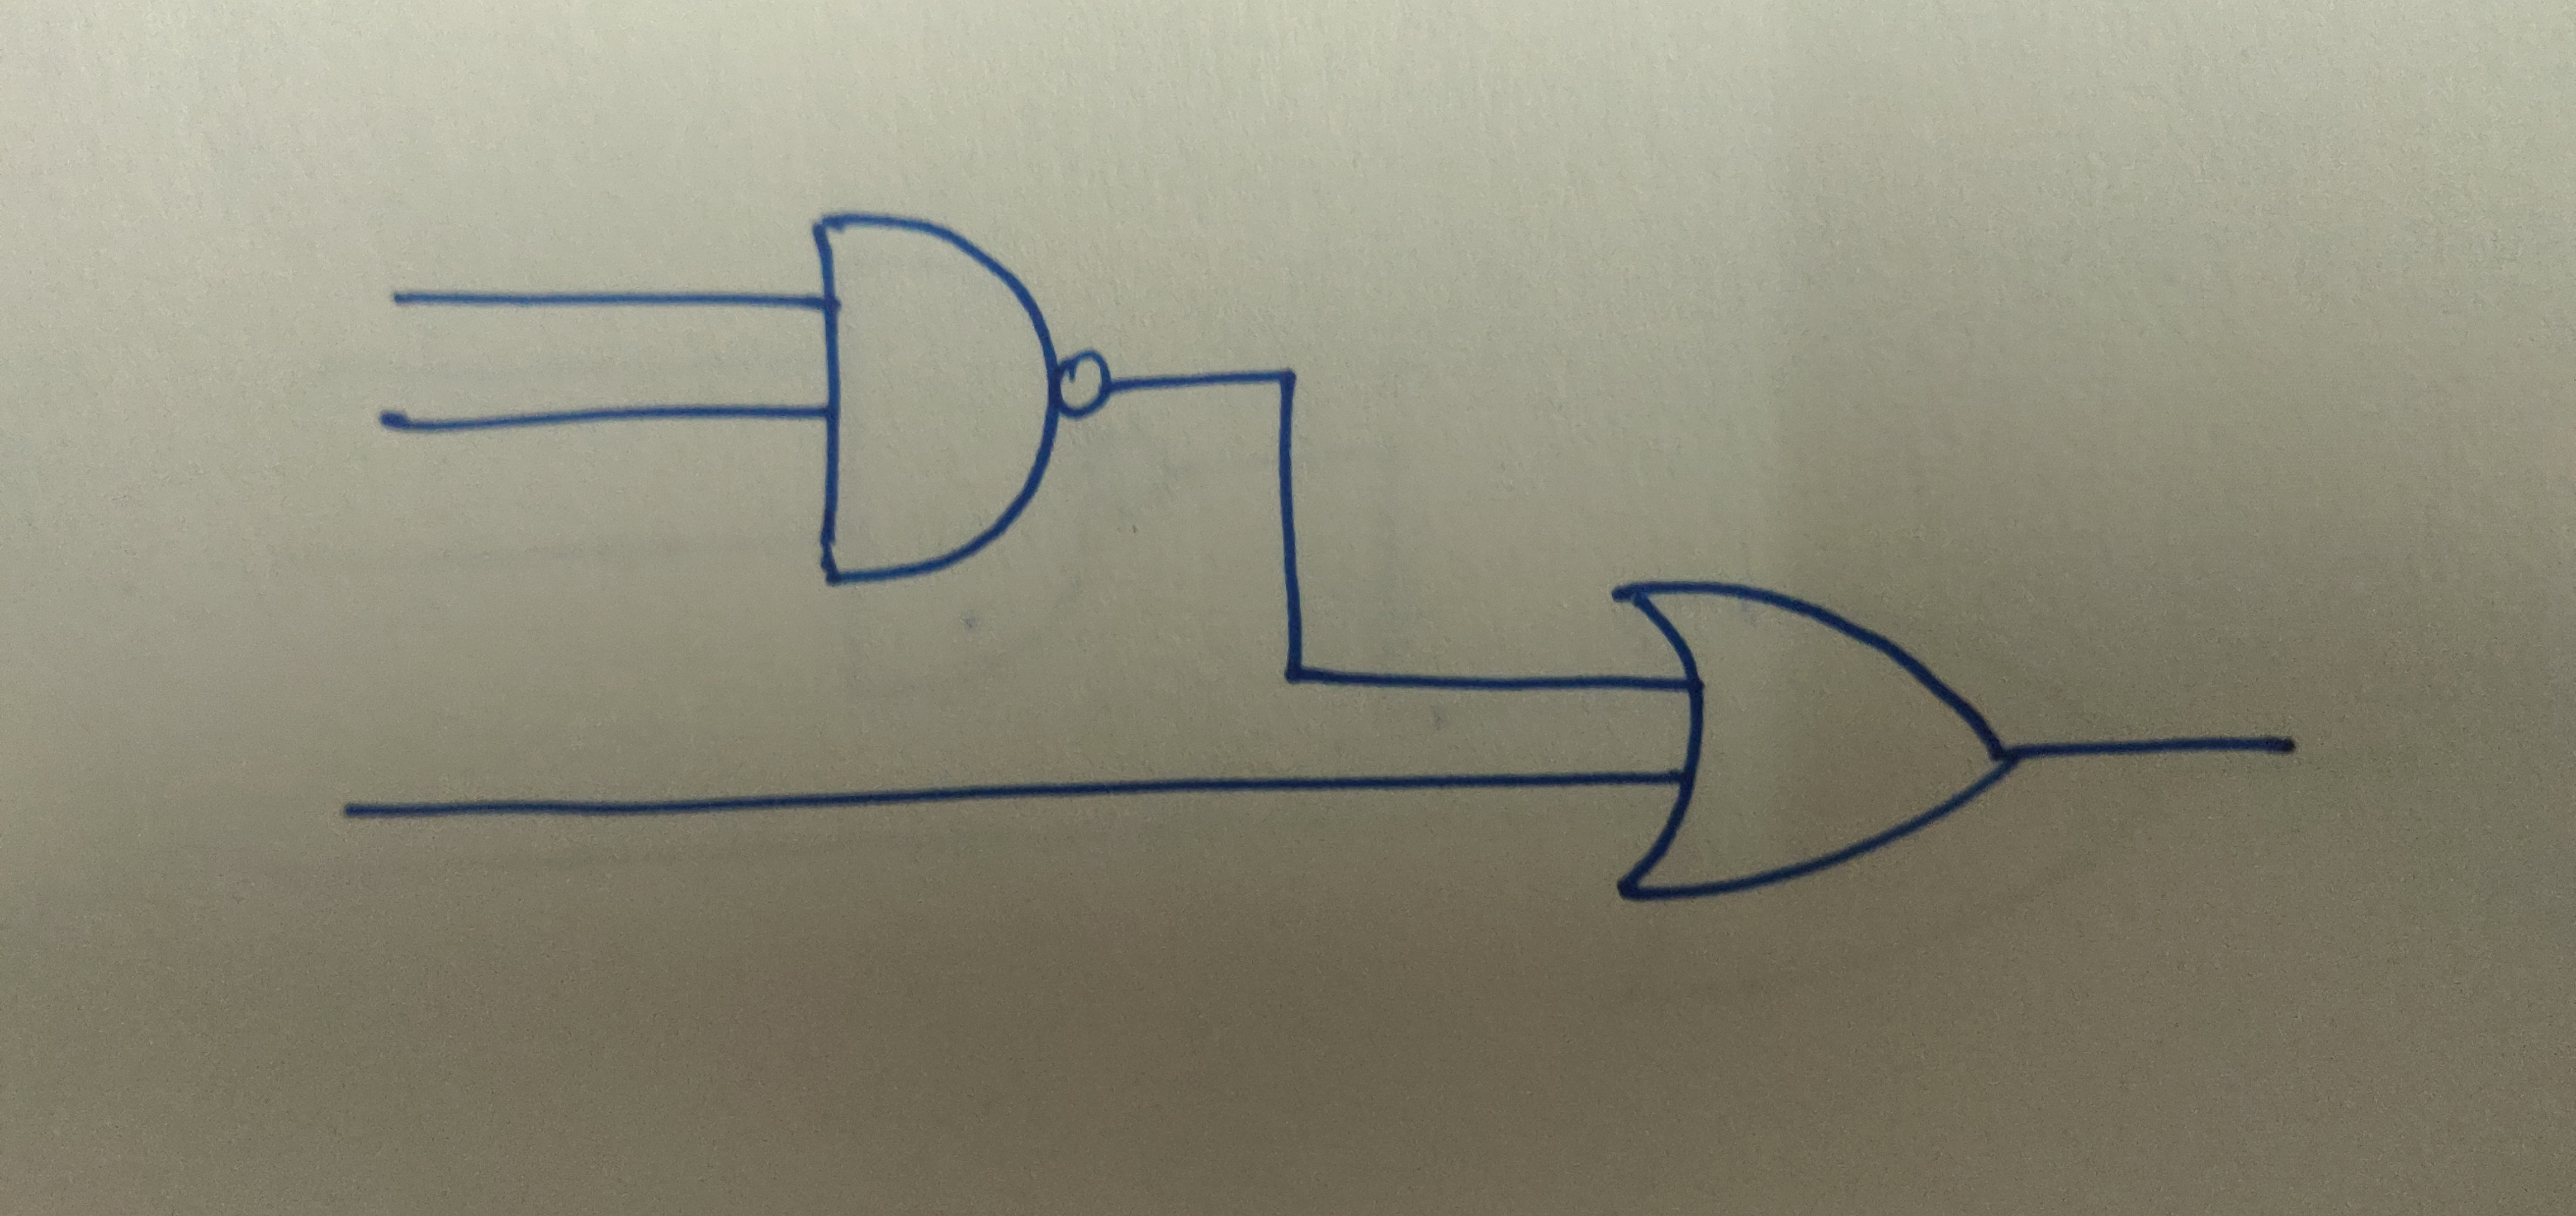and: (808, 210, 1061, 582)
not: (1055, 342, 1117, 421)
or: (1603, 578, 2014, 904)
